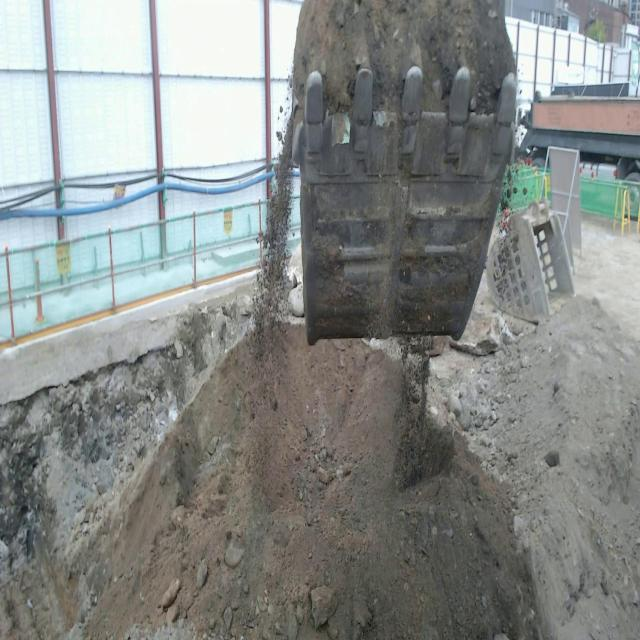cement: (0, 271, 255, 404)
red-sand: (0, 228, 640, 639), (293, 0, 514, 139)
rocks: (428, 341, 531, 447)
stone: (449, 313, 500, 356)
